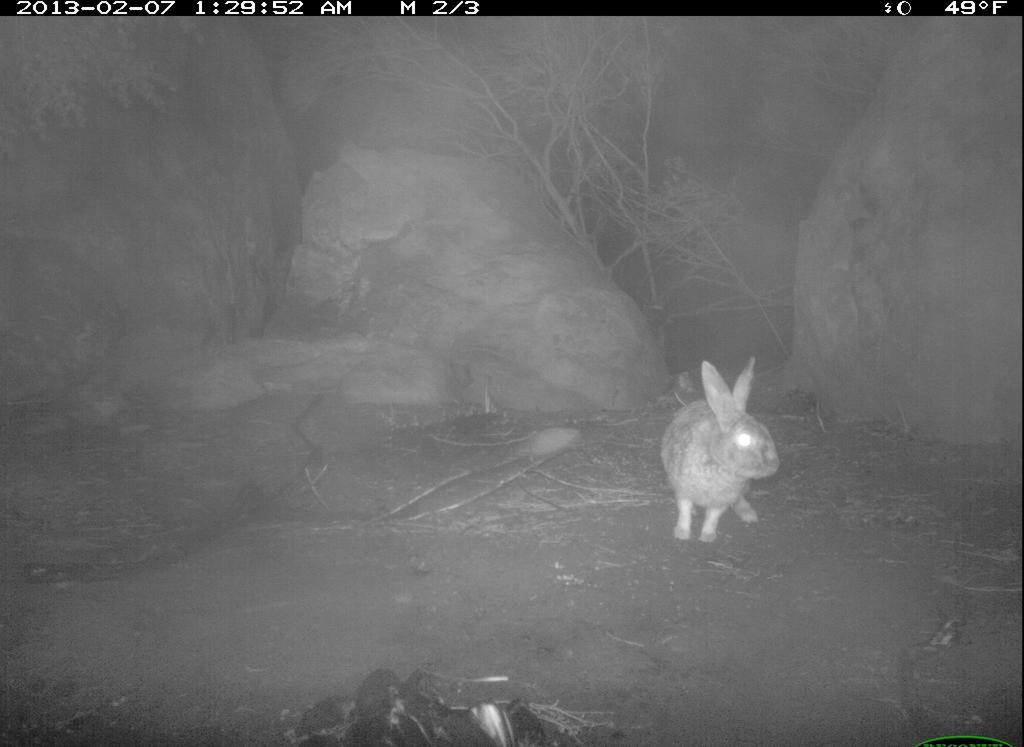rabbit: (665, 350, 797, 551)
